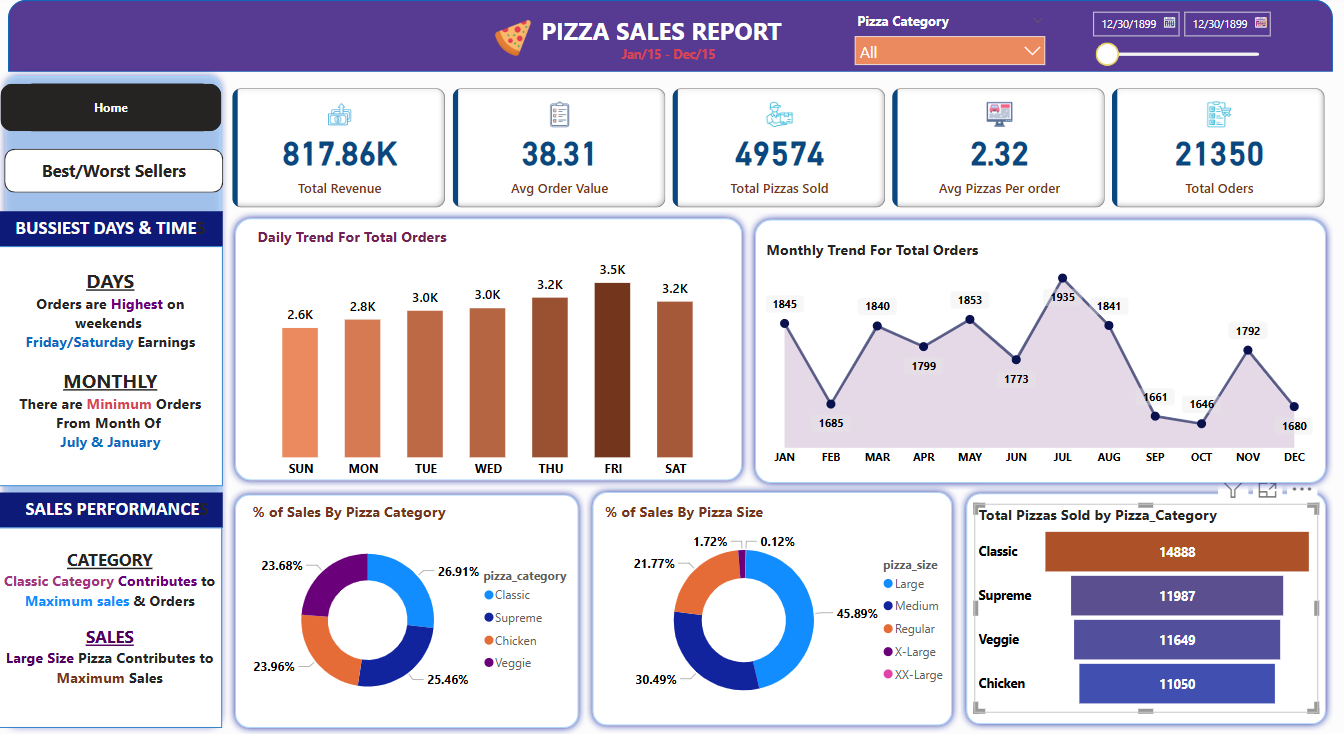

The page's visual inventory and layout, read from the dashboard file:
{"tool":"powerbi","page":{"name":"Home","canvas":[1500,820],"ordinal":0},"visuals":[{"type":"cardVisual","fields":{"Data":["pizza_sales_excel_file.total revenue","pizza_sales_excel_file.Avg Order Value","pizza_sales_excel_file.total pizzas sold","pizza_sales_excel_file.Avg Pizzas Per order","pizza_sales_excel_file.Total Oders"]},"box":[256.3,93.3,1229.7,143.4],"z":0},{"type":"shape","box":[11.3,0,1476.2,80],"z":1000},{"type":"textbox","box":[599.8,11.3,294.3,51.5],"z":2000},{"type":"textbox","box":[689.9,46.6,115.8,30.6],"z":3000},{"type":"image","box":[546.7,16.1,53.1,51.5],"z":4000},{"type":"shape","box":[256.3,235.4,580.7,307.8],"z":5000},{"type":"columnChart","title":"Daily Trend For Total Orders","fields":{"Y":["pizza_sales_excel_file.Total Oders"],"Category":["pizza_sales_excel_file.Order Day"]},"box":[284.1,252.1,525,289.7],"z":6000},{"type":"shape","box":[654.6,540.4,416.4,275.7],"z":7000},{"type":"shape","box":[256.3,543.1,398.3,275.7],"z":8000},{"type":"shape","box":[1071,541.7,416.4,273],"z":9000},{"type":"donutChart","title":"% of Sales By Pizza Category","fields":{"Category":["pizza_sales_excel_file.pizza_category"],"Y":["pizza_sales_excel_file.Total Revenue"]},"box":[278.5,558.5,376,243.7],"z":10000},{"type":"donutChart","title":"% of Sales By Pizza Size","fields":{"Y":["pizza_sales_excel_file.Total Revenue"],"Category":["pizza_sales_excel_file.pizza_size"]},"box":[671.3,558.5,399.7,243.7],"z":11000},{"type":"funnel","title":"Total Pizzas Sold by Pizza_Category","fields":{"Category":["pizza_sales_excel_file.pizza_category"],"Y":["pizza_sales_excel_file.Total Pizzas Sold"]},"box":[1087.7,561.2,383,232.6],"z":12000},{"type":"shape","box":[0,76.6,256.3,740.9],"z":13000},{"type":"shape","box":[835.6,236.8,651.8,309.2],"z":14000},{"type":"areaChart","title":"Monthly Trend For Total Orders","fields":{"Category":["pizza_sales_excel_file.Order Month"],"Y":["pizza_sales_excel_file.Total Oders"]},"box":[850.7,265.3,619.1,262.1],"z":15000},{"type":"textbox","box":[0,235.4,250.7,39],"z":16000},{"type":"textbox","box":[0,274.4,250.7,267.4],"z":17000},{"type":"textbox","box":[0,548.7,250.7,39],"z":18000},{"type":"textbox","box":[0,587.7,249.3,222.8],"z":19000},{"type":"slicer","fields":{"Values":["pizza_sales_excel_file.pizza_category"]},"box":[944.2,8.4,232.6,64.1],"z":20000},{"type":"slicer","fields":{"Values":["pizza_sales_excel_file.order_time"]},"box":[1207.4,2.8,218.6,79.4],"z":21000},{"type":"pageNavigator","box":[37,93.3,191.4,53.1],"z":22000},{"type":"pageNavigator","box":[6.4,165.6,244.4,49.9],"z":23000},{"type":"pageNavigator","box":[3.2,93.3,246,53.1],"z":24000}]}

Visuals, with their boxes in screenshot pixels (x1, y1, x2, y2), scaled from the page's 1500x820 canvas onto the 1344x734 screenshot:
cardVisual - pizza_sales_excel_file.total revenue x pizza_sales_excel_file.Avg Order Value: 230/84/1331/212
shape: 10/0/1333/72
textbox: 537/10/801/56
textbox: 618/42/722/69
image: 490/14/537/61
shape: 230/211/750/486
"Daily Trend For Total Orders" columnChart: 255/226/725/485
shape: 587/484/960/731
shape: 230/486/587/733
shape: 960/485/1333/729
"% of Sales By Pizza Category" donutChart: 250/500/586/718
"% of Sales By Pizza Size" donutChart: 601/500/960/718
"Total Pizzas Sold by Pizza_Category" funnel: 975/502/1318/711
shape: 0/69/230/732
shape: 749/212/1333/489
"Monthly Trend For Total Orders" areaChart: 762/237/1317/472
textbox: 0/211/225/246
textbox: 0/246/225/485
textbox: 0/491/225/526
textbox: 0/526/223/725
slicer - pizza_sales_excel_file.pizza_category: 846/8/1054/65
slicer - pizza_sales_excel_file.order_time: 1082/3/1278/74
pageNavigator: 33/84/205/131
pageNavigator: 6/148/225/193
pageNavigator: 3/84/223/131
